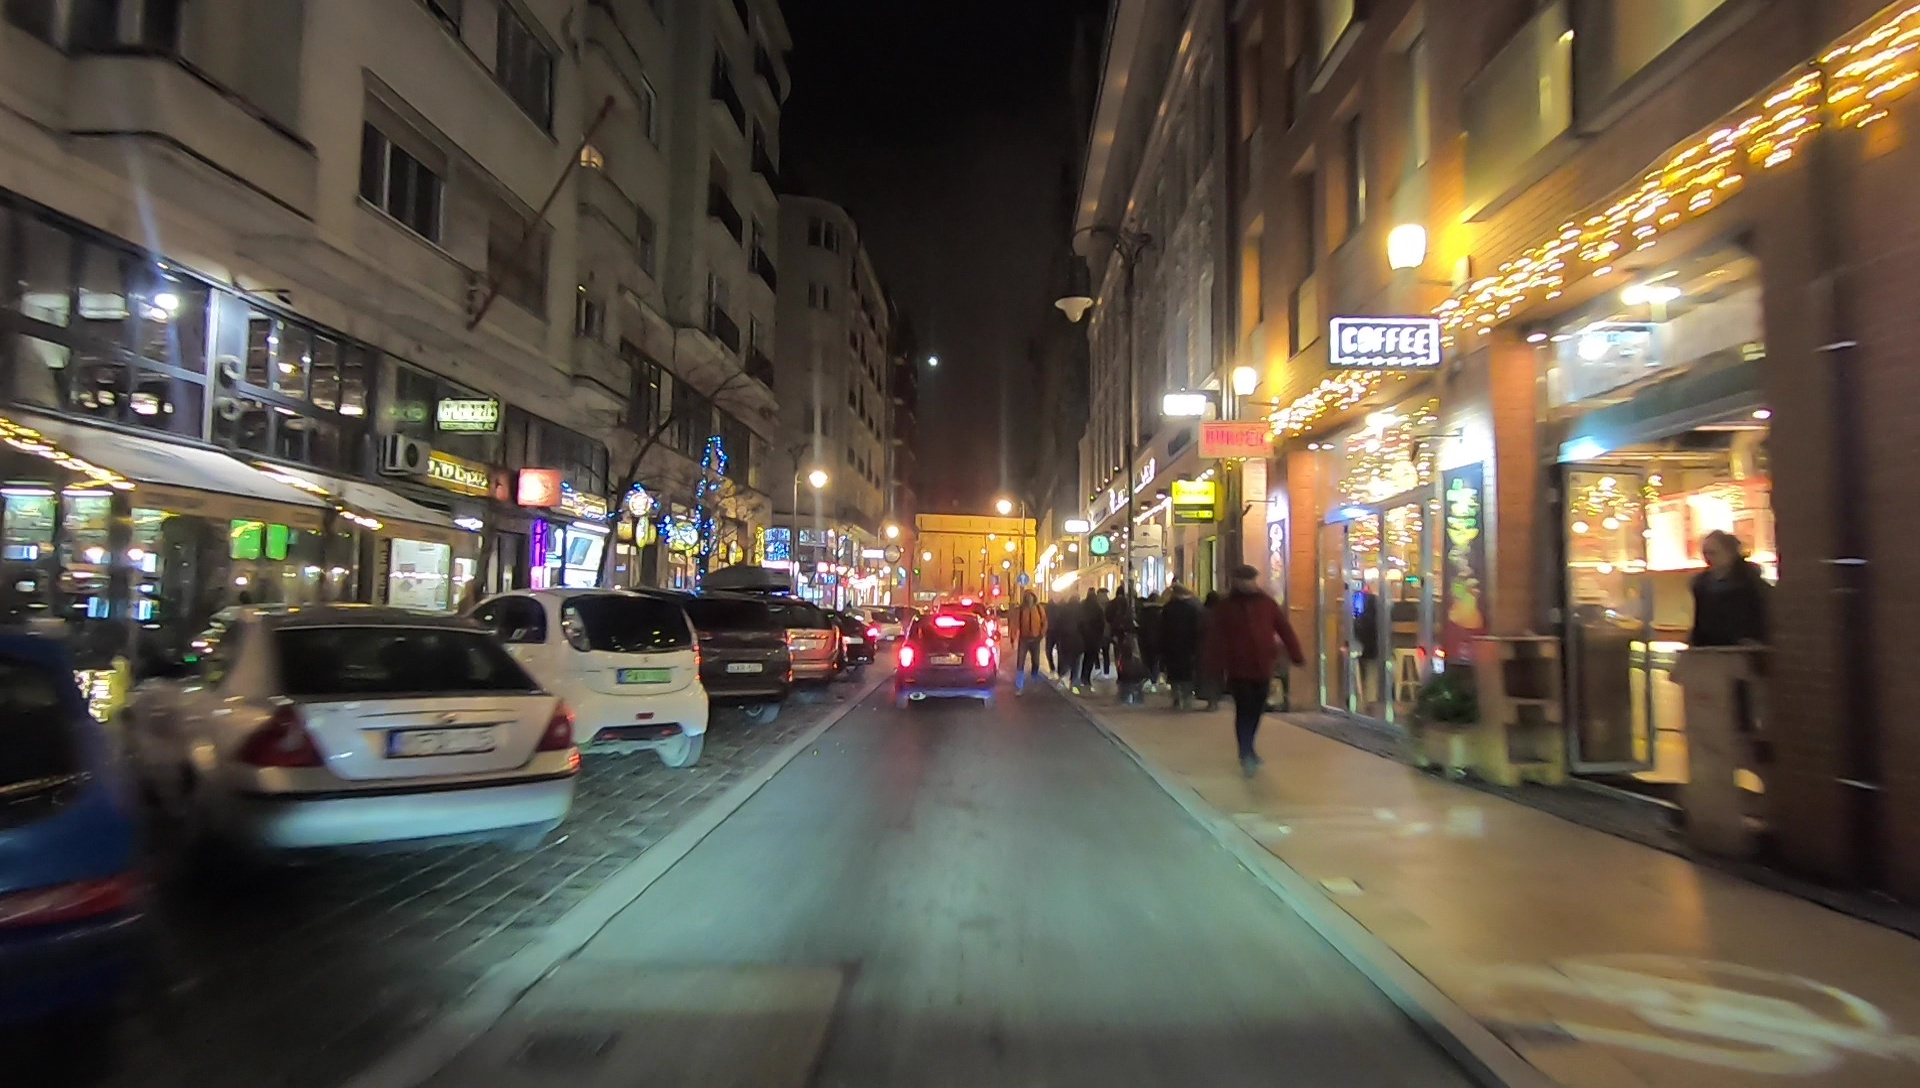person: (1680, 532, 1775, 813), (1225, 578, 1288, 778), (1162, 579, 1202, 710), (1010, 589, 1042, 698), (1137, 590, 1164, 699), (1057, 591, 1082, 692), (1106, 587, 1132, 680), (1086, 586, 1102, 705)
